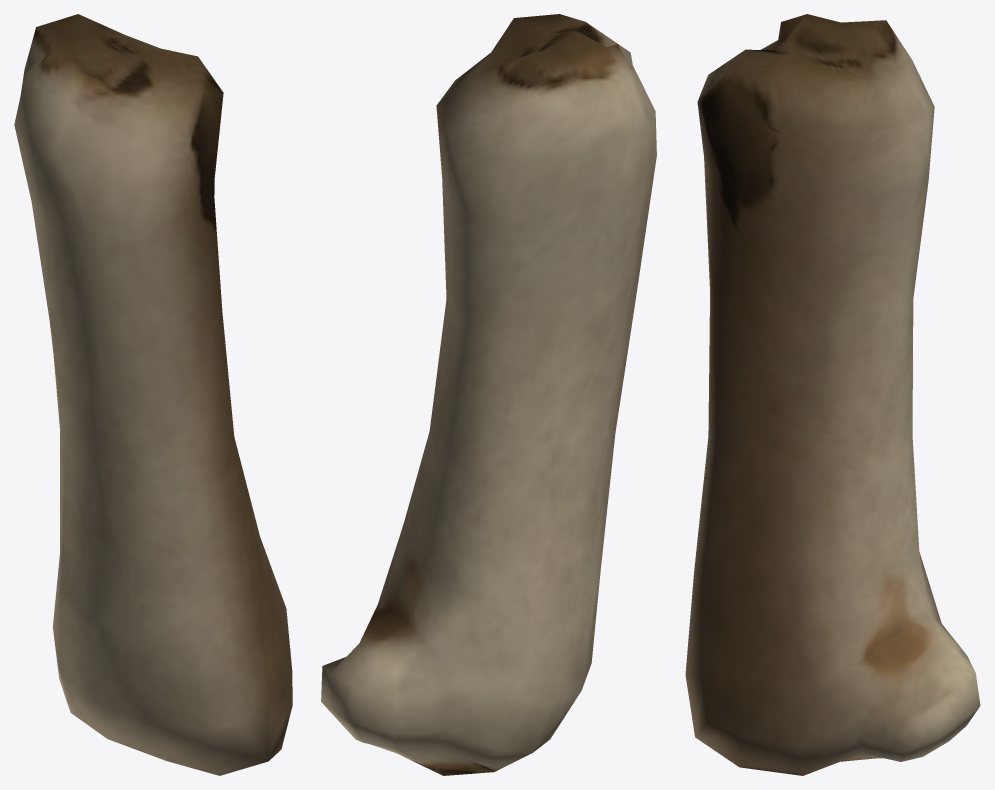
File: Metacarpal_I.glb
The picture shows the model from 3 angles, left to right: view 1: azimuth 30°, elevation 25°; view 2: azimuth 150°, elevation 25°; view 3: azimuth 270°, elevation 25°; orthographic projection. The views are drawn at different scales.
Visible parts, largest first — view 1: Metacarpal_I_Left1:Group52207; view 2: Metacarpal_I_Left1:Group52207; view 3: Metacarpal_I_Left1:Group52207.
Part boxes in pixels (bbox=[...]): Metacarpal_I_Left1:Group52207: bbox=[14, 14, 292, 775]; Metacarpal_I_Left1:Group52207: bbox=[321, 14, 656, 775]; Metacarpal_I_Left1:Group52207: bbox=[685, 14, 980, 775].
Bounding box in the file's own units: 7.61 × 19.41 × 7.52.
Materials: 1 (1 with a texture image).
